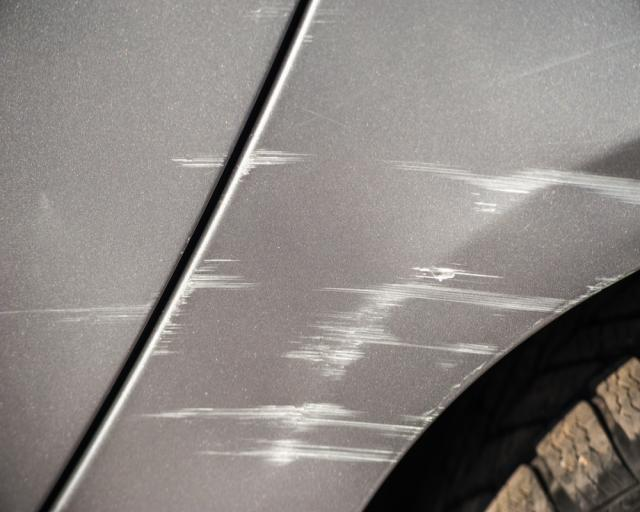scratch: (153, 146, 640, 474), (0, 287, 159, 329), (167, 146, 230, 169)
